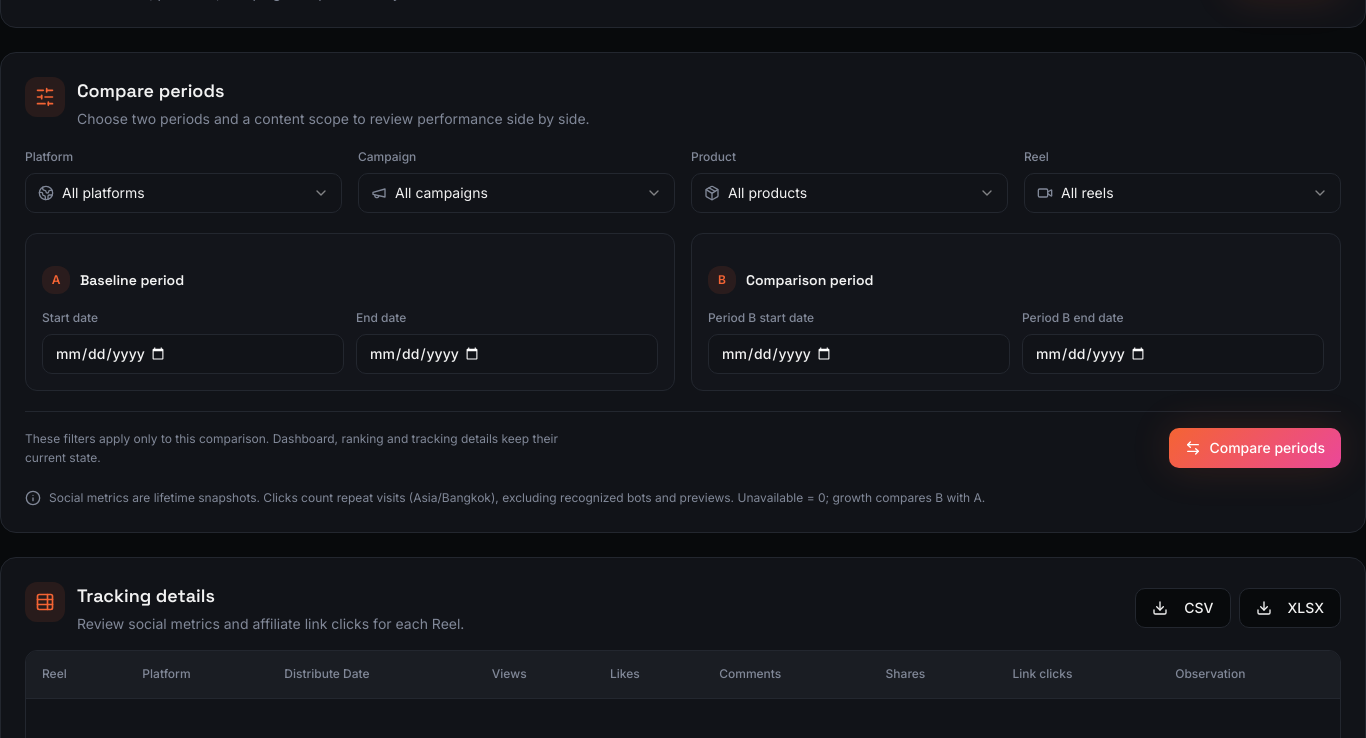
Test: shows unavailable social counters and zero clicks without commerce claims
The width and height of the screenshot is (1366, 738).
(page scrolled)
Expected: the heading "Tracking details" is shown, [77,584,215,606]
Type "2026-10-15" into the date field labelled "Start date". click: (193, 354)
box: [42,334,344,374]
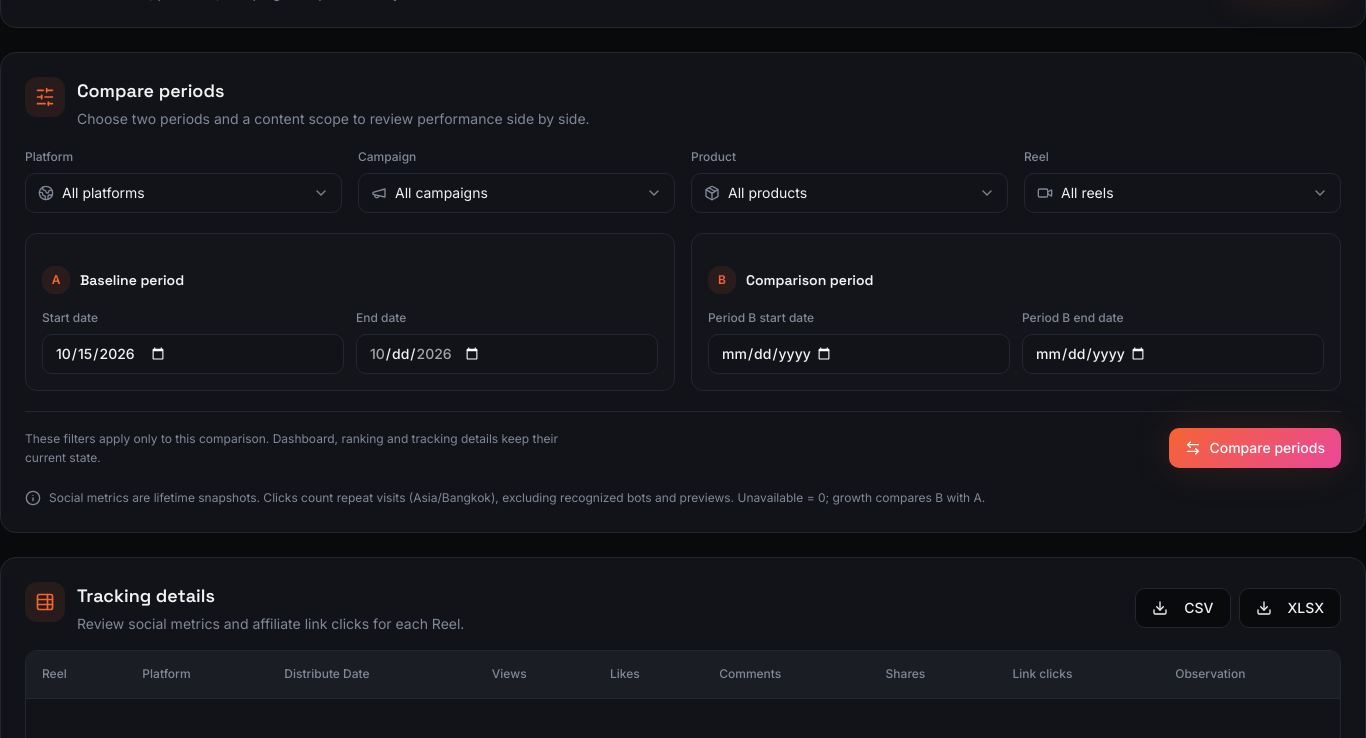
Type "2026-10-01" into the date field labelled "End date". click: (507, 354)
box: [356,334,658,374]
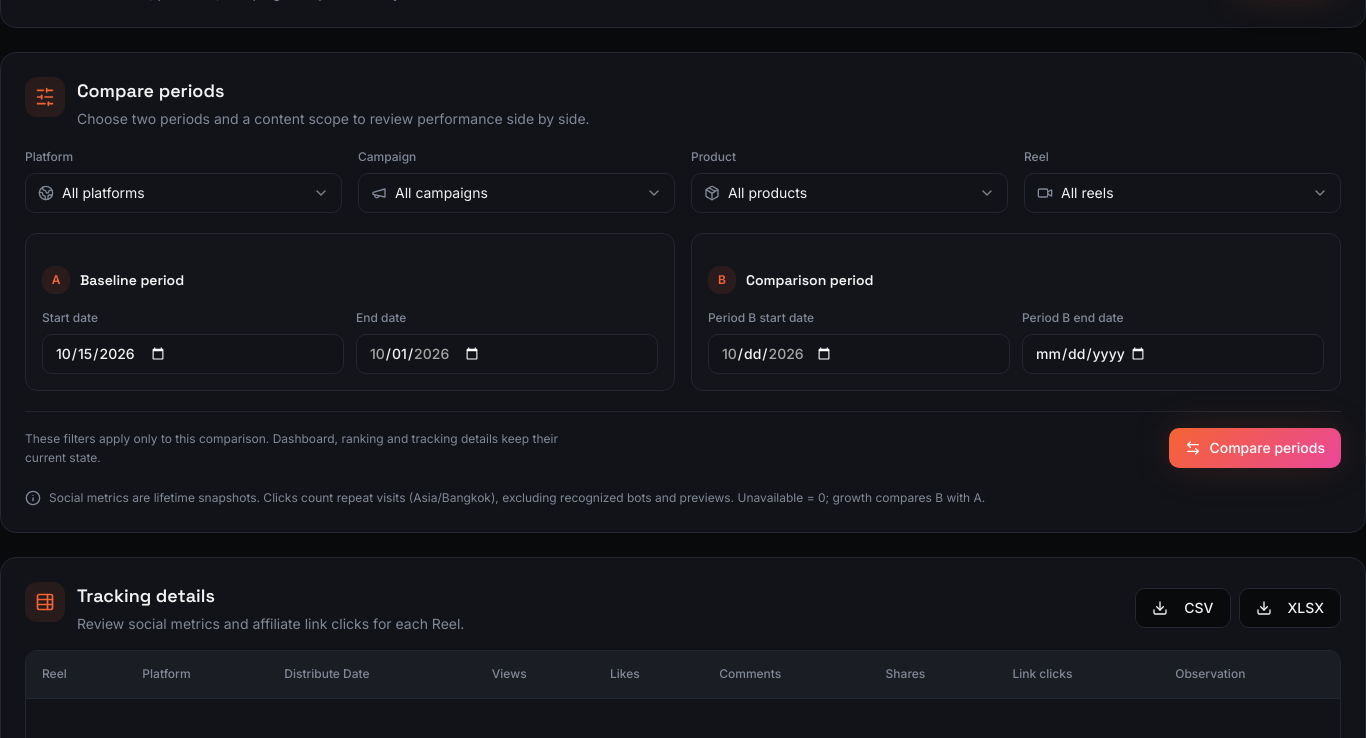
Click the button "Compare periods". click: (1255, 448)
box: [1169,428,1341,468]
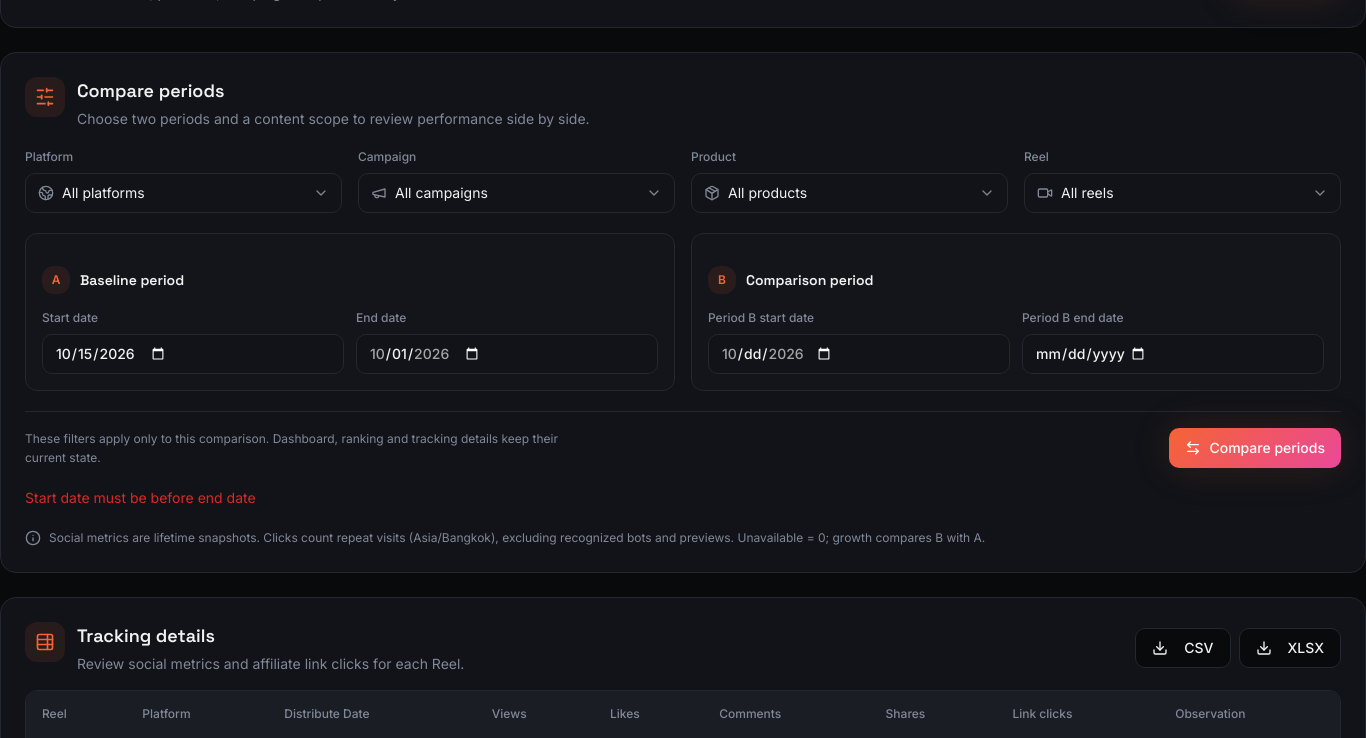
Now the message reads "Start date must be before end date", box [25,489,256,506]
